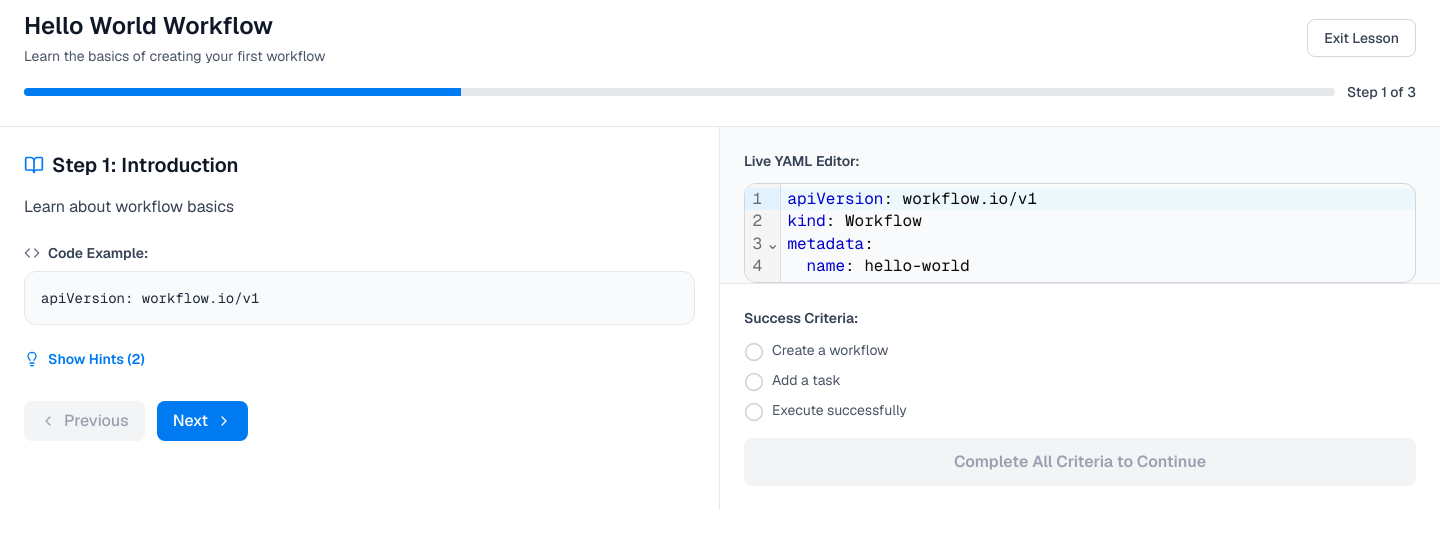
Scenario: LessonViewer › Hints/Tips › should toggle hints visibility when button is clicked
The width and height of the screenshot is (1440, 542).
// Show hints
Click the button with test id "toggle-hints-button" at (84, 359), box [24, 349, 145, 369]
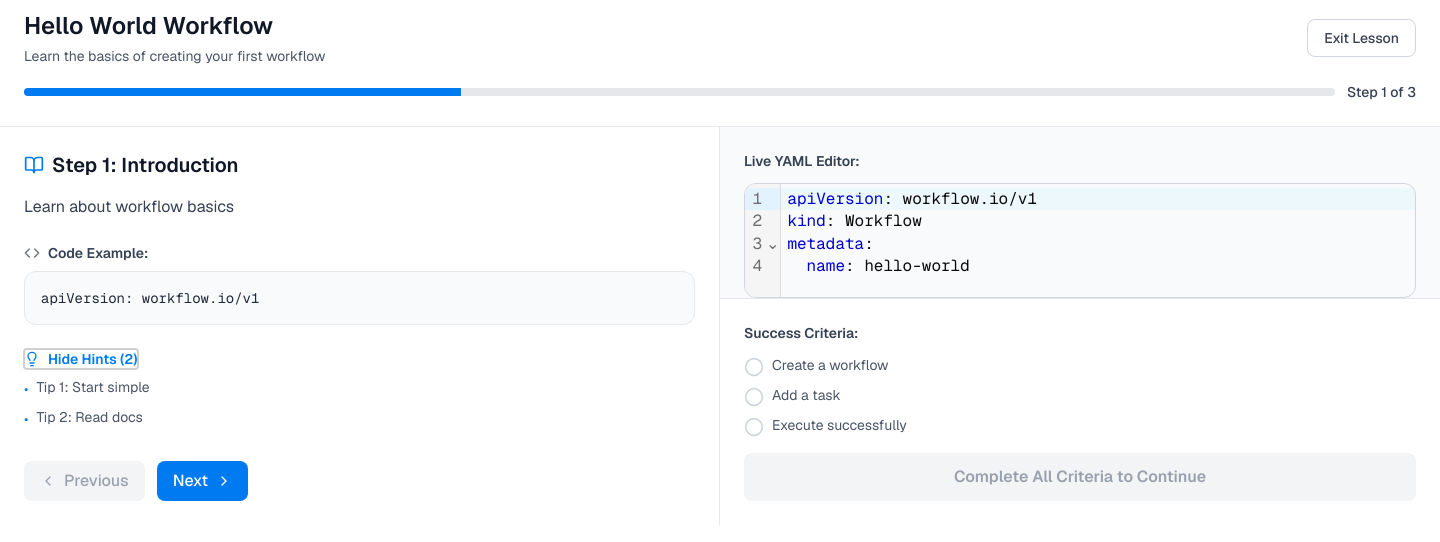
Now the list with test id "hints-list" is shown, box [24, 378, 150, 428]
Now the text "Tip 1: Start simple" is shown, box [36, 377, 150, 397]
// Hide hints
Click the button with test id "toggle-hints-button" at (81, 359), box [24, 349, 138, 369]
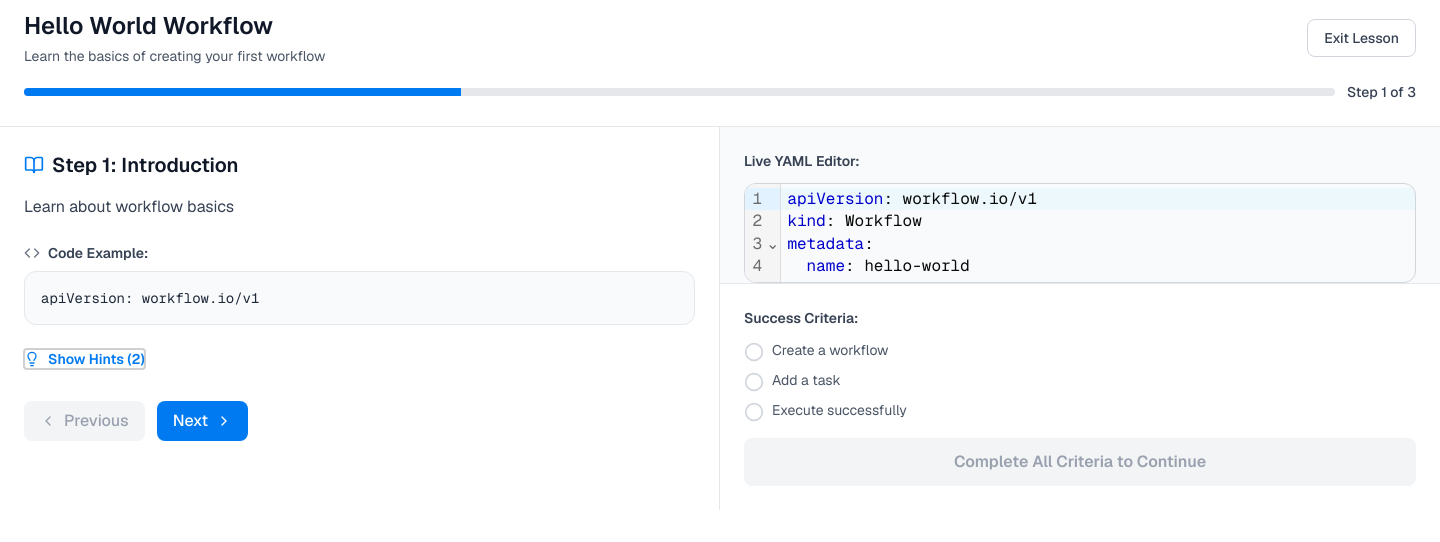
Now the list with test id "hints-list" is gone
